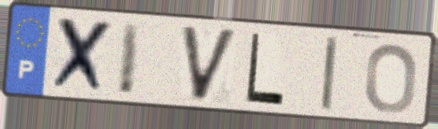I: (115, 20, 145, 97), (318, 35, 341, 114)
L: (243, 31, 287, 109)
O: (363, 42, 420, 116)
V: (178, 23, 242, 105)
X: (48, 14, 116, 97)
